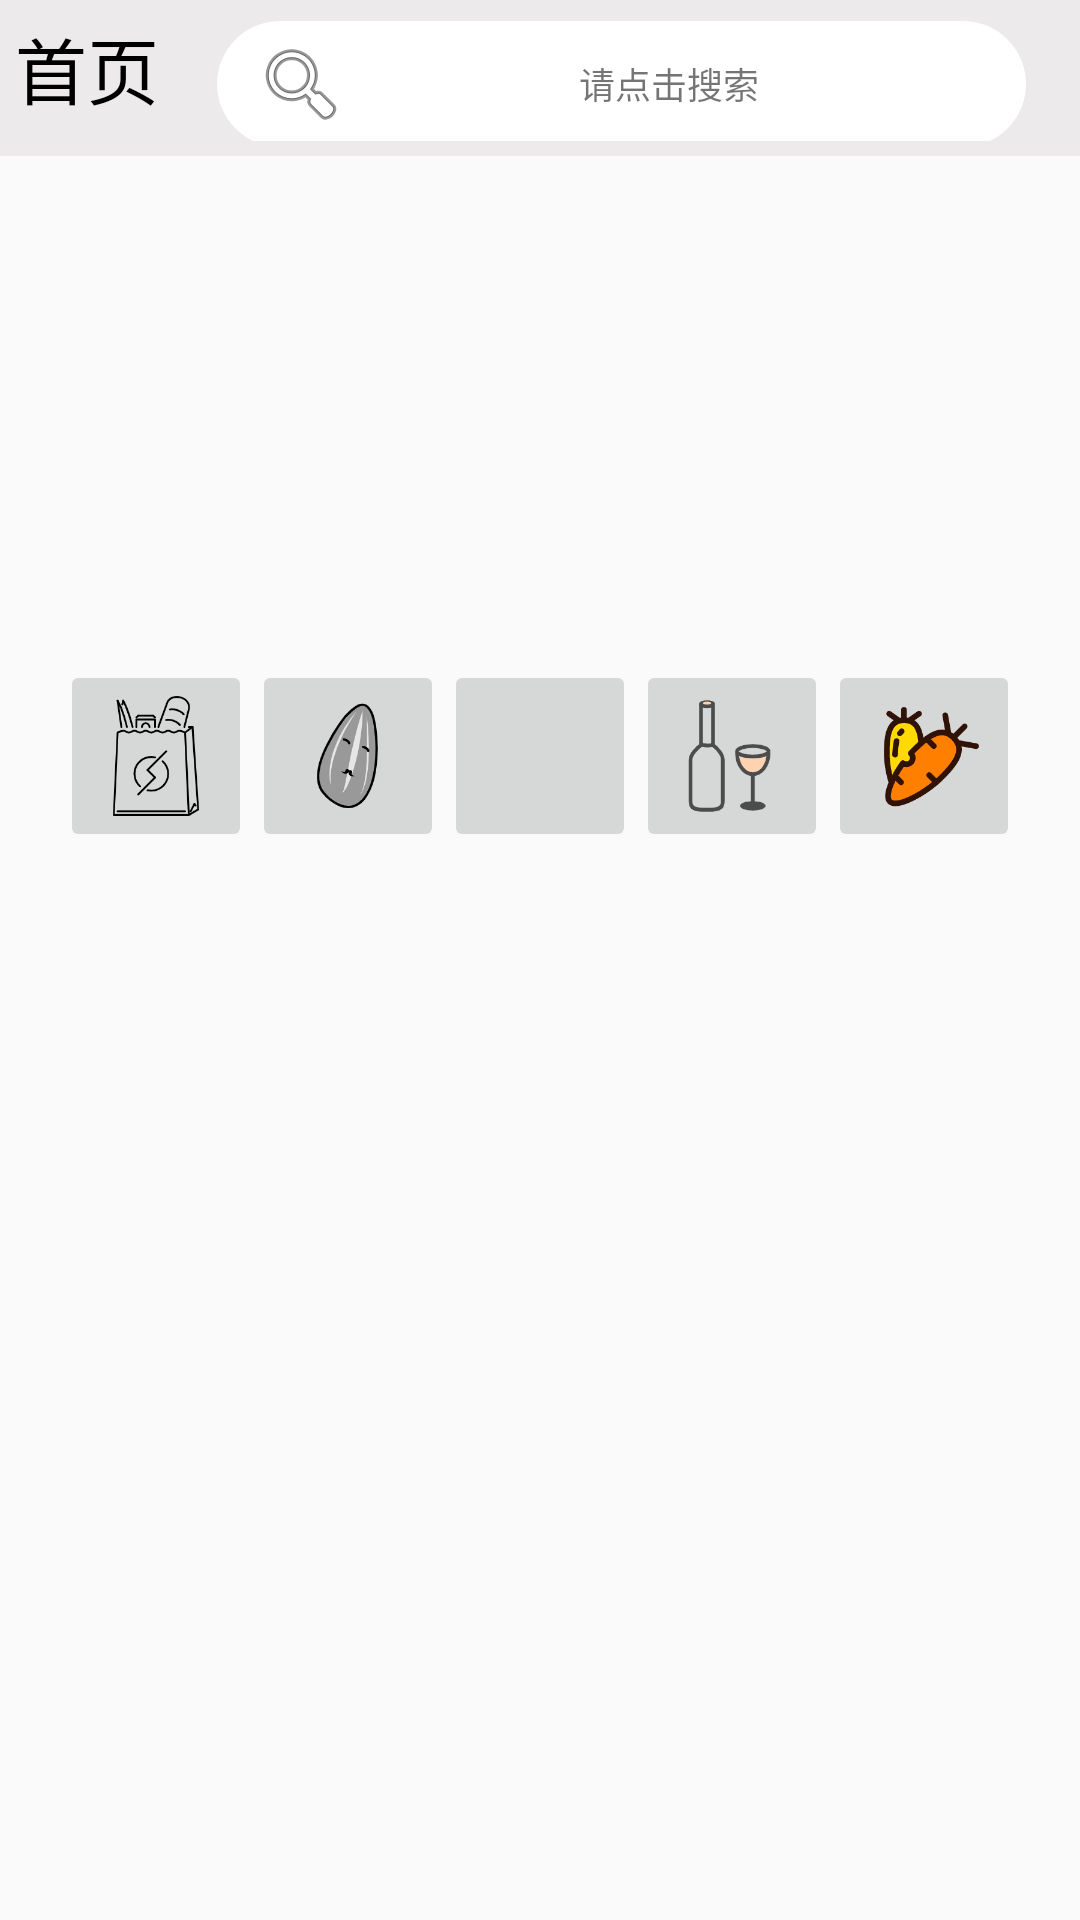

Point at icon controls on the screen. Image size 1080×1920, points as (x,y).
drink: (732,756)
gradenstuff: (924,756)
